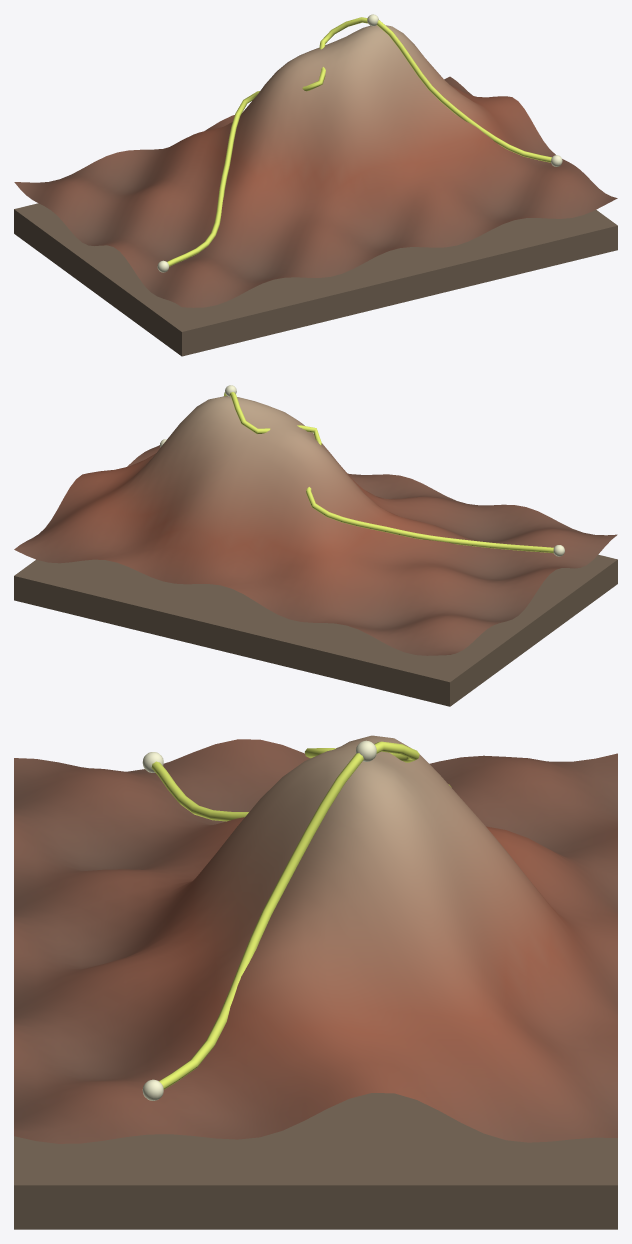
The model's file is scree.glb.
The picture shows the model from 3 angles, top to bottom: view 1: azimuth 30°, elevation 25°; view 2: azimuth 150°, elevation 25°; view 3: azimuth 270°, elevation 25°; orthographic projection. The views are drawn at different scales.
Visible parts, largest first — view 1: scree; view 2: scree; view 3: scree.
Part boxes in pixels (left/top/right/bottom): scree: left=14, top=14, right=617, bottom=356; scree: left=14, top=385, right=617, bottom=706; scree: left=14, top=735, right=617, bottom=1229.
Size of the model in its own units: 5.4 by 2.36 by 3.6.
